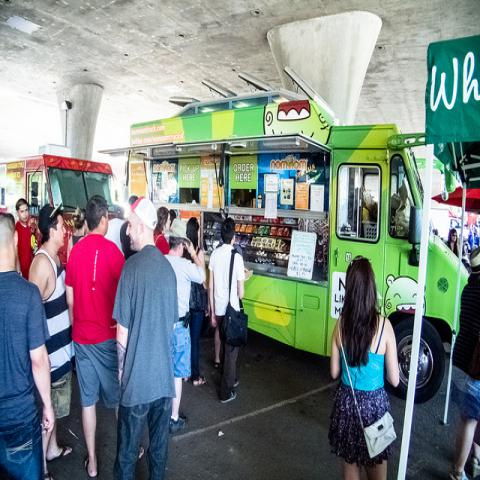truck: (97, 64, 469, 403), (0, 156, 125, 231)
